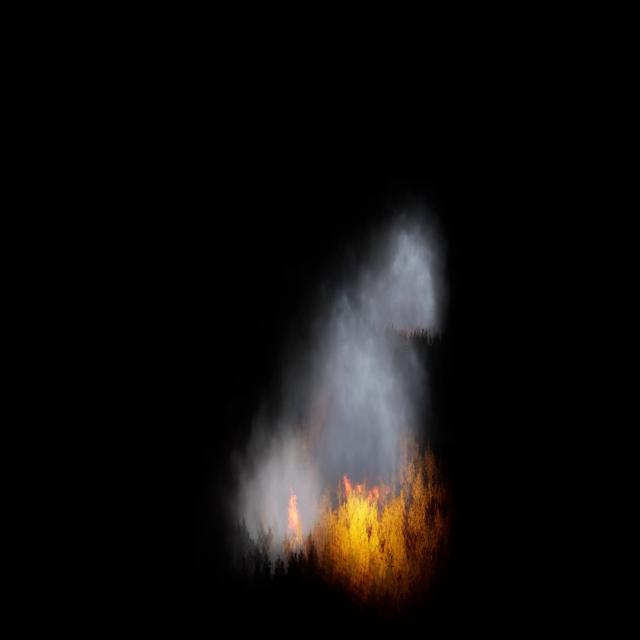fire: (321, 435, 448, 586), (287, 492, 304, 548)
smoke: (224, 198, 448, 578)
